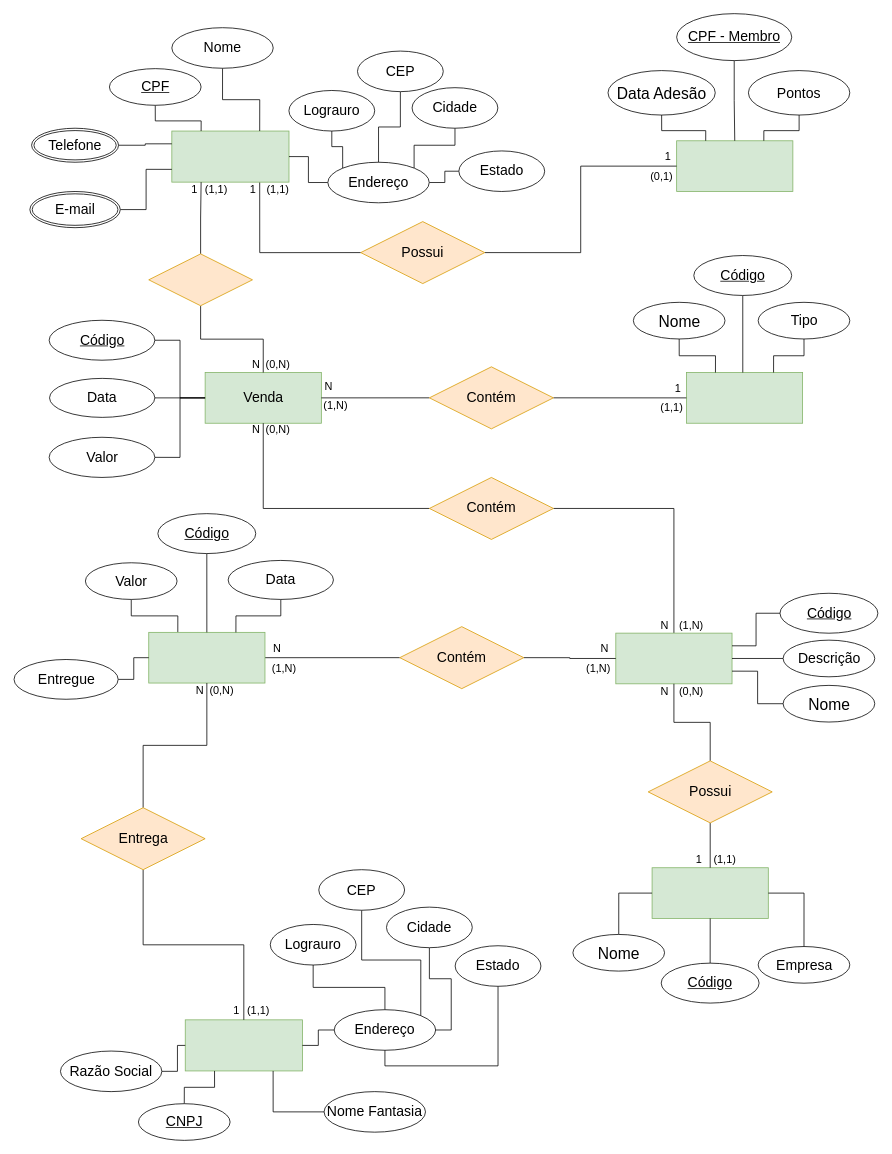
Some shapes in this 892 by 1154 pixel diagram are drawn without their labels. The box of each missing label's shape, as (x1, y1, x2, y2) in pixels:
Cliente: (171, 130, 289, 182)
Compra: (148, 632, 265, 683)
Distribuidor: (184, 1019, 302, 1071)
Fidelidade: (676, 140, 793, 191)
Forma de Pagamento: (686, 372, 803, 423)
Gera: (148, 253, 252, 306)
Marca: (651, 867, 768, 918)
Produto: (615, 632, 732, 684)
